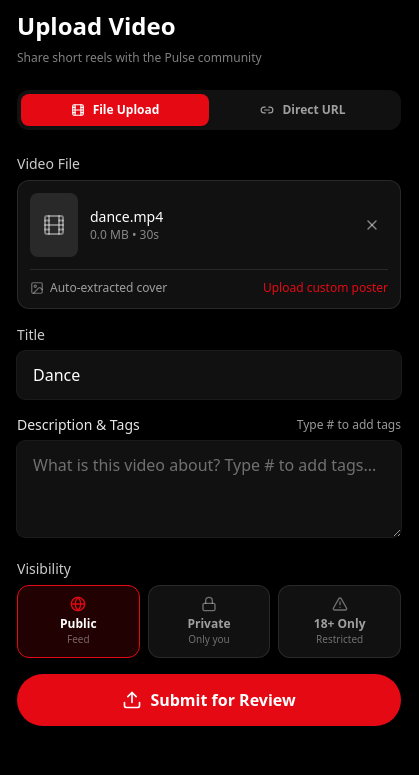
UploadScreen Component (Phase 2) › displays clear error with a Retry Upload button on network failure
The image size is (419, 775).
Earlier steps of the test are not shown.
(page scrolled)
Expected: the text "dance.mp4" is shown, [90,207,163,226]
Expected: the field with placeholder "Give your video a catchy title" holds "Dance", [17,351,401,399]
Step 1. Click the button "Submit for Review" → click(209, 700), box [17,674,401,726]
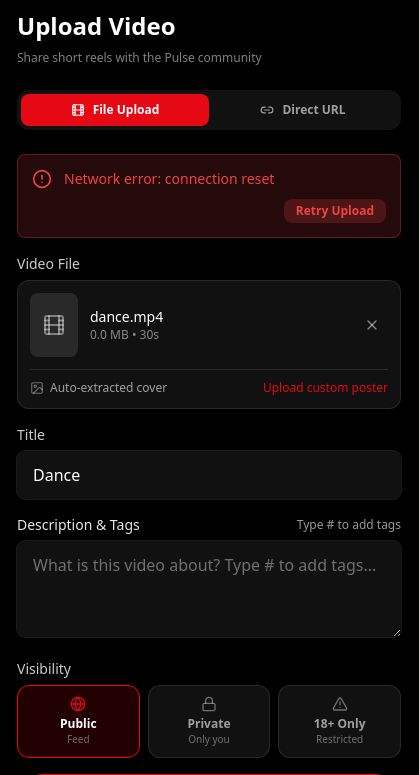
Expected: the text "Network error: connection reset" is shown, [64,169,274,189]
Expected: the button "Retry Upload" is shown, [284,199,386,223]
